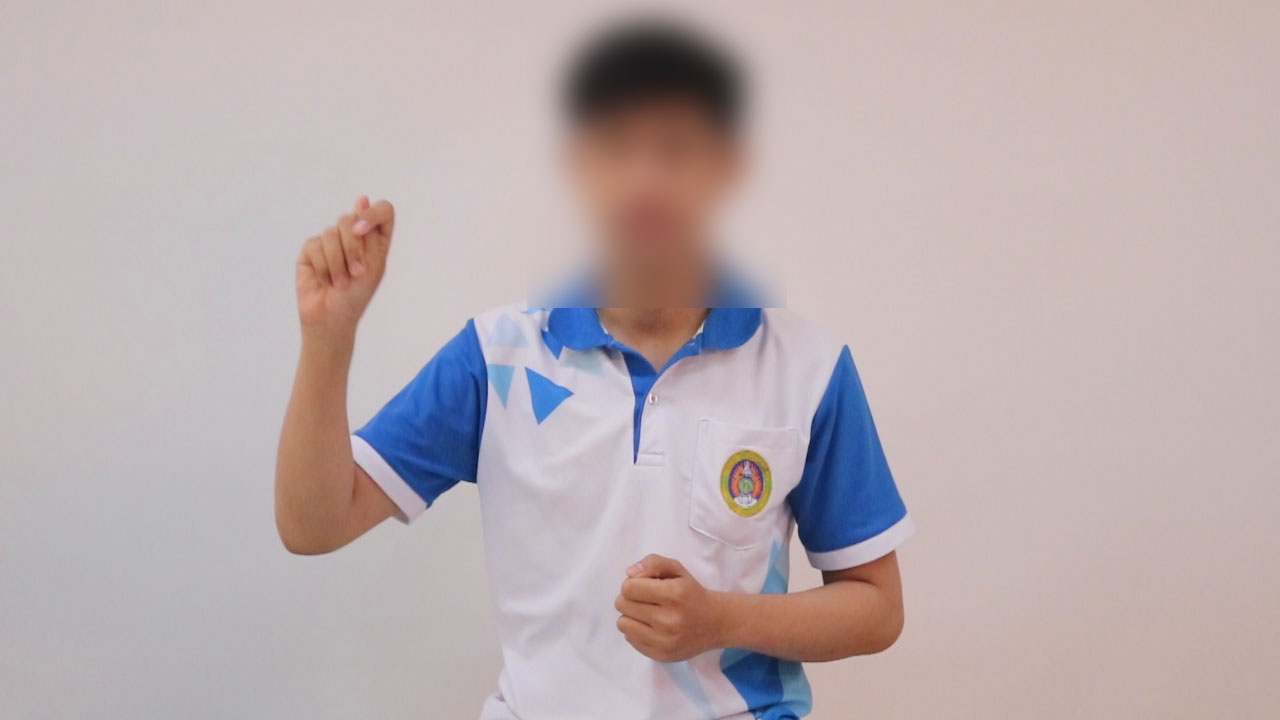tor: (272, 182, 408, 341)
